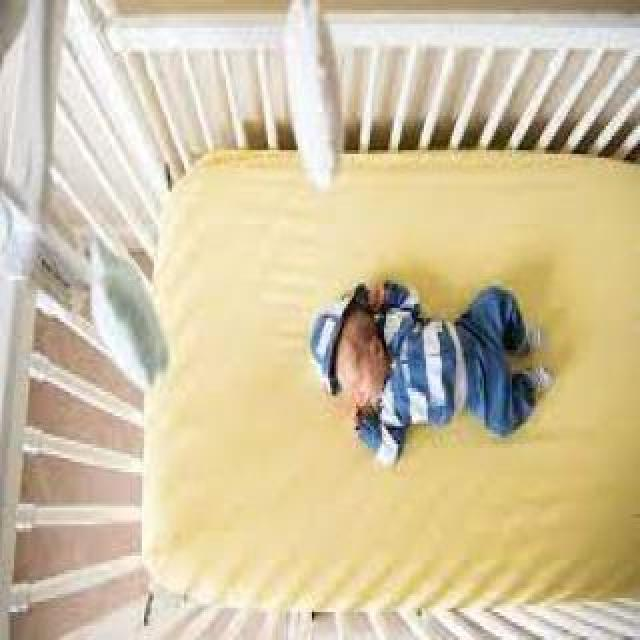baby: (308, 271, 560, 467)
